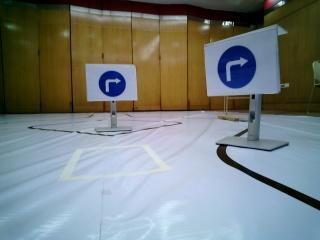right: (203, 45, 271, 95), (88, 67, 136, 102)
